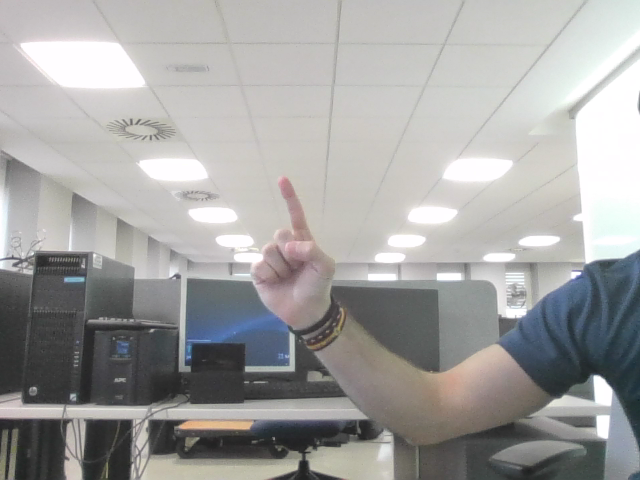1Dedo: (261, 188, 321, 286)
